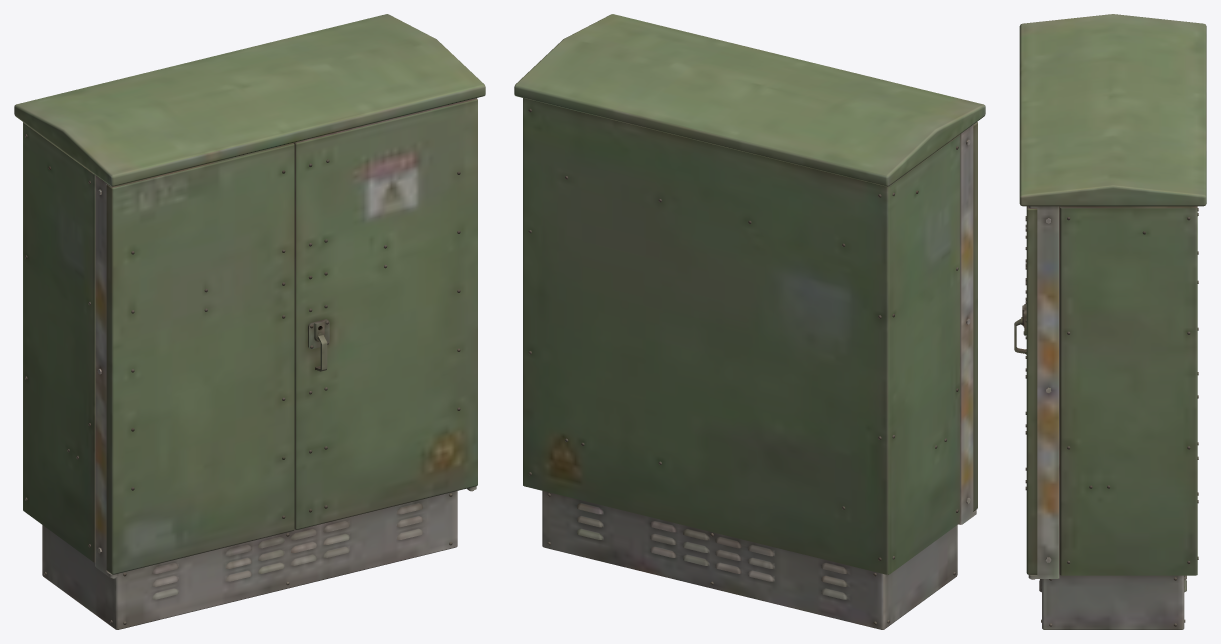
The model's file is utility_box_2.glb.
3 views of the same model, side by side, from view 1: azimuth 30°, elevation 25°; view 2: azimuth 150°, elevation 25°; view 3: azimuth 270°, elevation 25° (orthographic). The views are drawn at different scales.
Visible parts, largest first — view 1: utility_box_02; view 2: utility_box_02; view 3: utility_box_02.
Part boxes in pixels (<box>): utility_box_02: <box>14,14,485,629</box>; utility_box_02: <box>514,14,985,629</box>; utility_box_02: <box>1014,14,1206,629</box>.
Size of the model in its own units: 0.92 by 1.12 by 0.432.
1 material, 1 textured.
